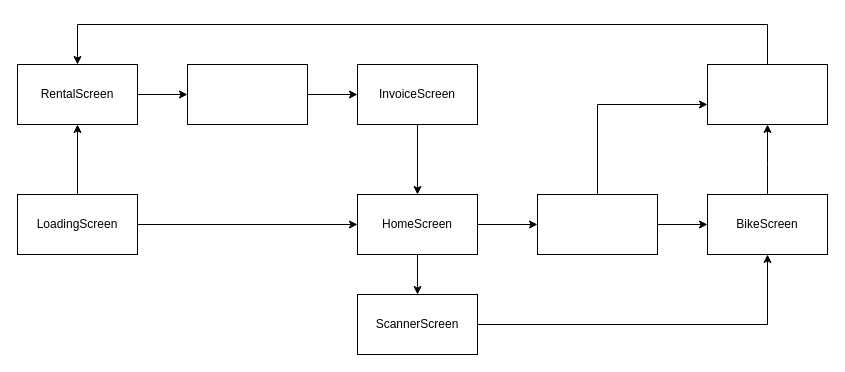
The diagram is 845 pixels wide and 372 high, and some of its shapes have lost their labels. Each missing label, with the centre of its shape:
"PaymentScreen" belongs at pixel 767 94.
"ReturnBikeScreen" belongs at pixel 247 94.
"StationScreen" belongs at pixel 597 224.
